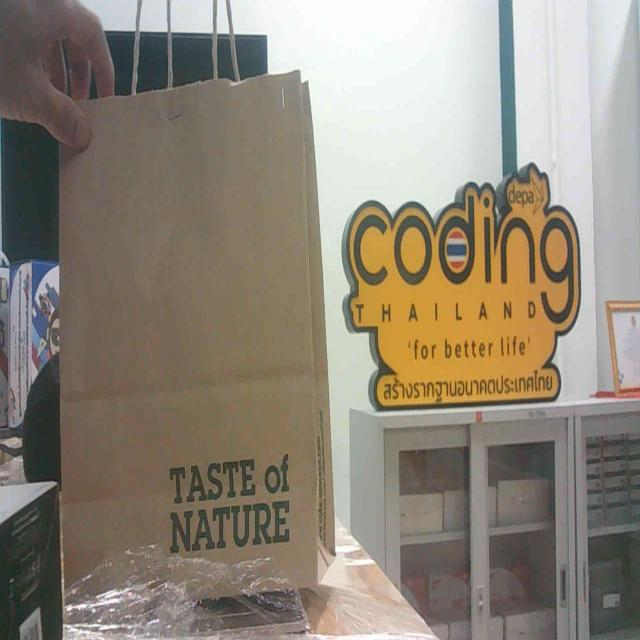bag: (76, 143, 317, 554)
